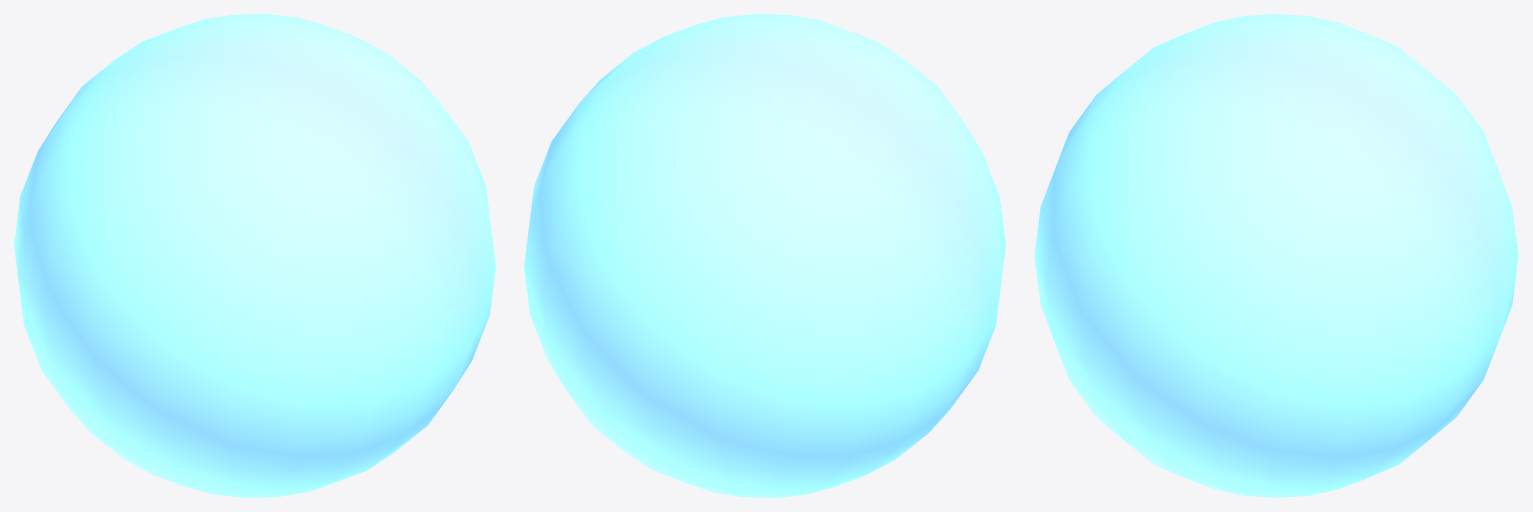
File: water_pickup.glb
3 views of the same model, side by side, from view 1: azimuth 30°, elevation 25°; view 2: azimuth 150°, elevation 25°; view 3: azimuth 270°, elevation 25° (orthographic).
Parts seen in each view (by area): view 1: Water; view 2: Water; view 3: Water.
Part boxes in pixels (x1=…): Water: x1=14, y1=14, x2=495, y2=497; Water: x1=524, y1=14, x2=1005, y2=497; Water: x1=1034, y1=14, x2=1518, y2=497.
Bounding box in the file's own units: 0.68 × 0.68 × 0.68.
